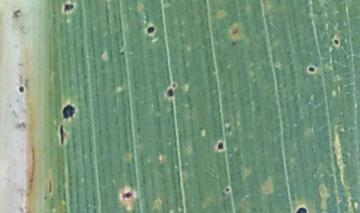tarspot: (62, 104, 76, 119), (58, 124, 66, 146), (63, 4, 74, 13), (295, 206, 309, 213), (146, 25, 156, 34), (122, 191, 133, 199), (216, 141, 225, 150), (167, 88, 174, 98), (308, 66, 316, 74), (18, 85, 25, 93), (170, 82, 177, 88), (225, 187, 231, 194), (334, 39, 339, 46)
